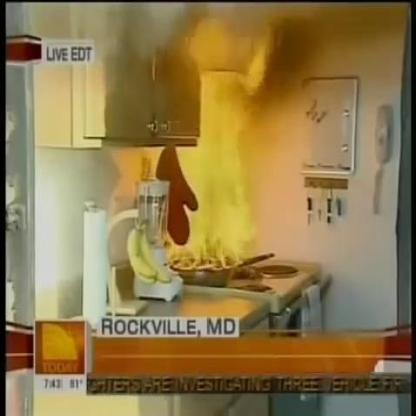fire: (166, 78, 260, 272)
